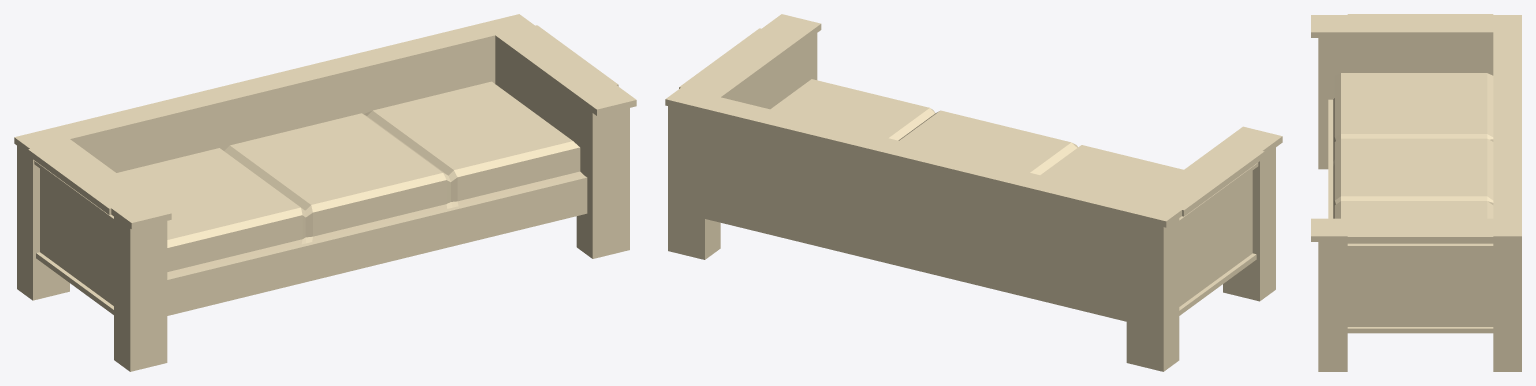
File: BigSofa.glb
3 views of the same model, side by side, from view 1: azimuth 30°, elevation 25°; view 2: azimuth 150°, elevation 25°; view 3: azimuth 270°, elevation 25° (orthographic). The views are drawn at different scales.
Parts seen in each view (by area): view 1: Cube_Cube.001; view 2: Cube_Cube.001; view 3: Cube_Cube.001.
Part boxes in pixels (x1,y1,x2,y2): Cube_Cube.001: (14,14,636,371); Cube_Cube.001: (665,14,1282,371); Cube_Cube.001: (1311,14,1521,371).
Size of the model in its own units: 5.45 by 1.56 by 2.18.
